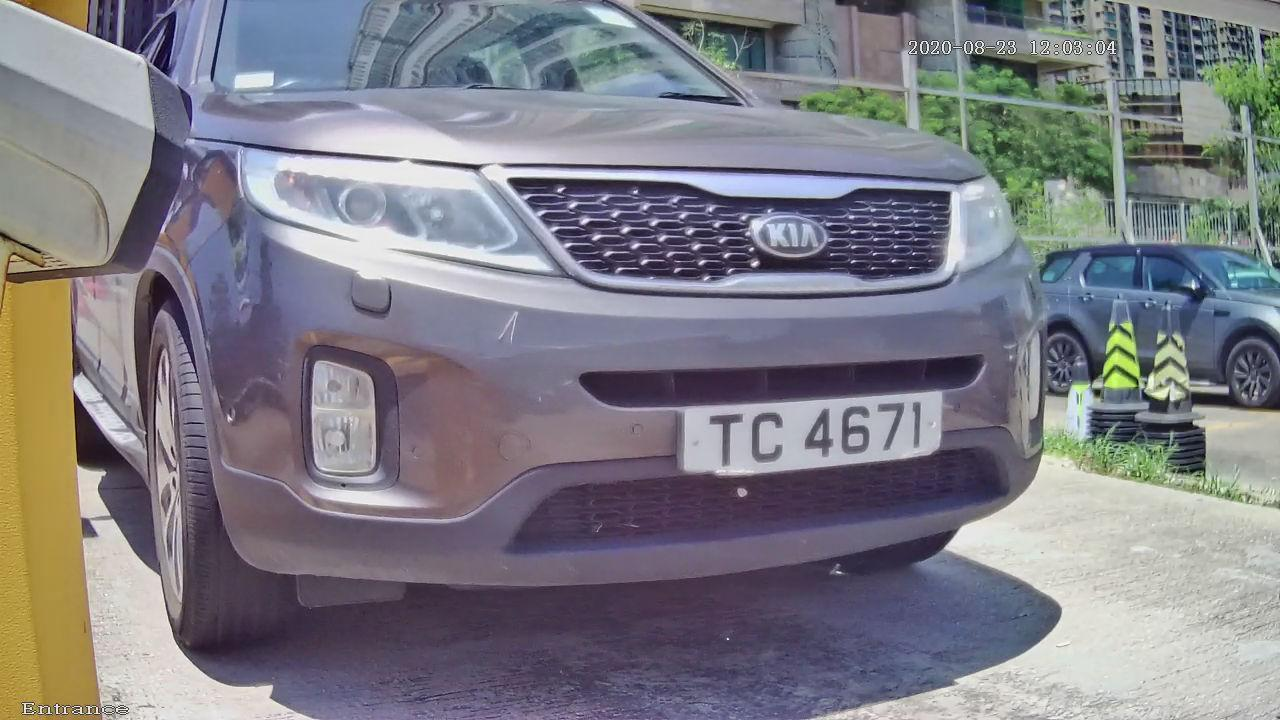Car: (35, 10, 1132, 663)
License Plate: (663, 383, 949, 483)
